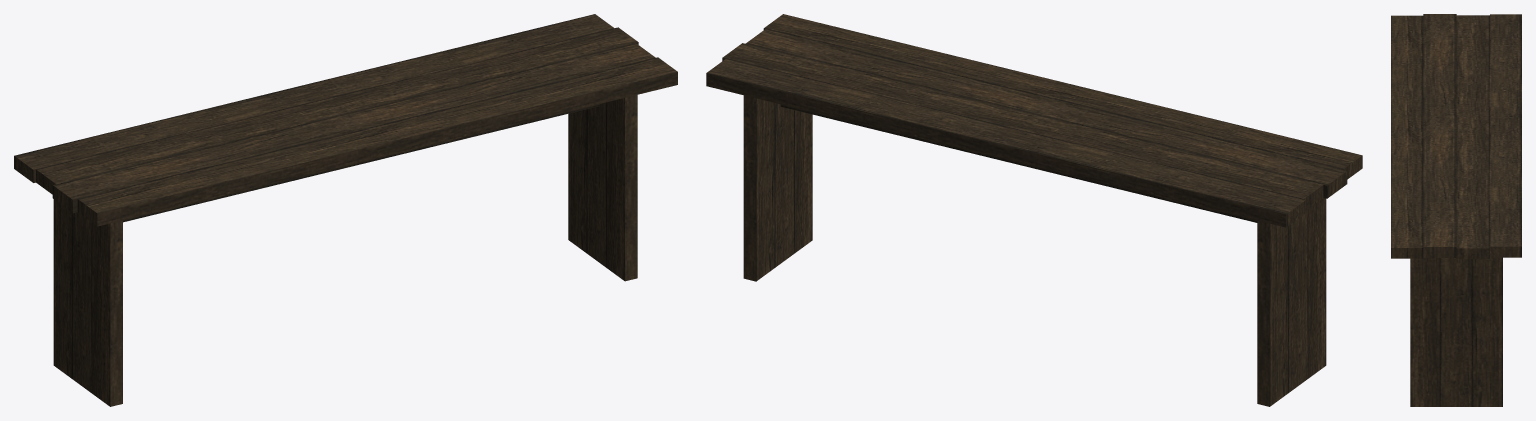
File: bench_mx_1_2.obj
3 views of the same model, side by side, from view 1: azimuth 30°, elevation 25°; view 2: azimuth 150°, elevation 25°; view 3: azimuth 270°, elevation 25° (orthographic). The views are drawn at different scales.
Parts seen in each view (by area): view 1: bench_mx_1_2; view 2: bench_mx_1_2; view 3: bench_mx_1_2.
Boxes of the visible parts, x1=… form: bench_mx_1_2: x1=14, y1=14, x2=677, y2=406; bench_mx_1_2: x1=706, y1=14, x2=1362, y2=406; bench_mx_1_2: x1=1391, y1=14, x2=1521, y2=406.
Size of the model in its own units: 1.86 by 0.63 by 0.438.
